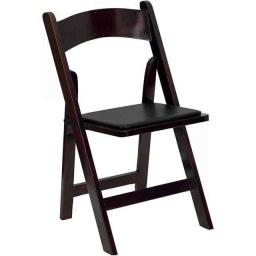Chair: (41, 0, 214, 255)
